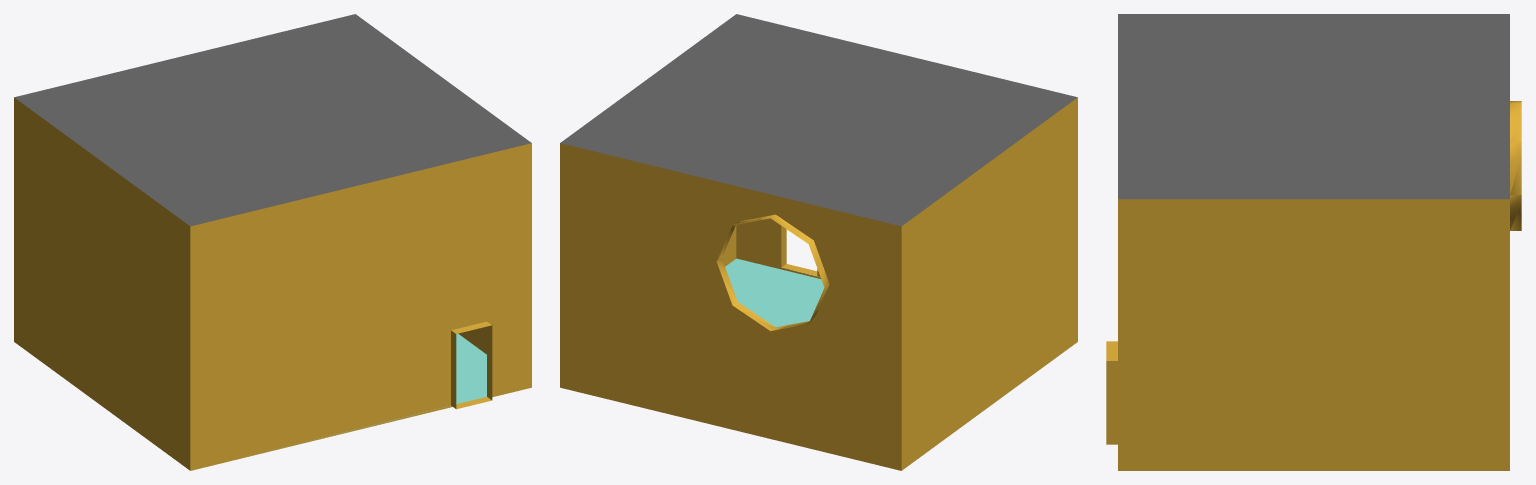
The model's file is Floor1_KitchenMesh.gltf.
The picture shows the model from 3 angles, left to right: view 1: azimuth 30°, elevation 25°; view 2: azimuth 150°, elevation 25°; view 3: azimuth 270°, elevation 25°; orthographic projection. The views are drawn at different scales.
Visible parts, largest first — view 1: Floor1_KitchenMesh; view 2: Floor1_KitchenMesh; view 3: Floor1_KitchenMesh.
Part boxes in pixels (left/top/right/bottom): Floor1_KitchenMesh: left=14, top=14, right=531, bottom=470; Floor1_KitchenMesh: left=560, top=14, right=1077, bottom=470; Floor1_KitchenMesh: left=1106, top=14, right=1521, bottom=470.
Bounding box in the file's own units: 19 × 13 × 18.
